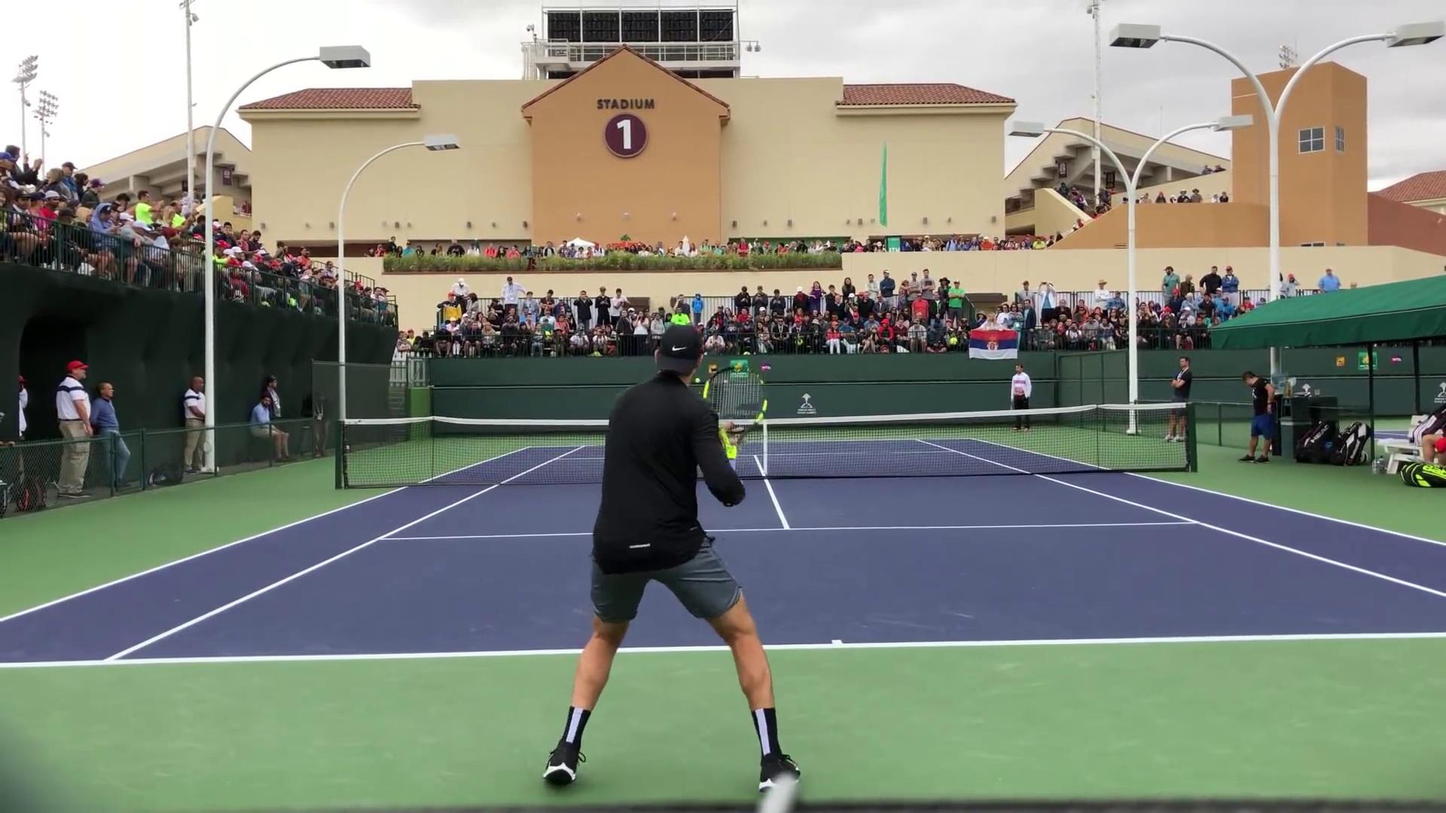ball: (694, 378, 702, 384)
